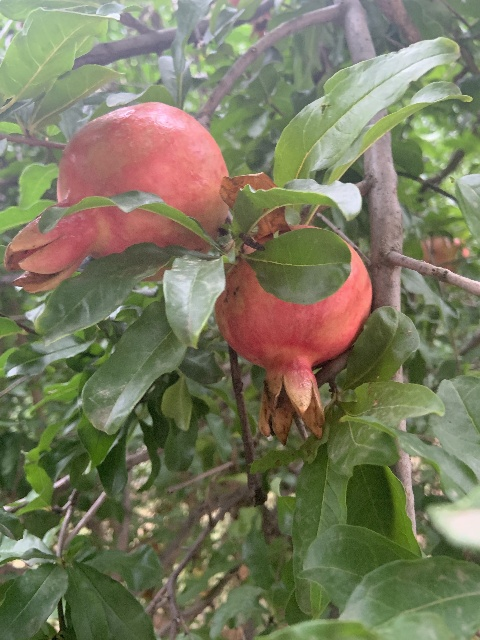ripe: (3, 101, 228, 294), (214, 225, 372, 444)
